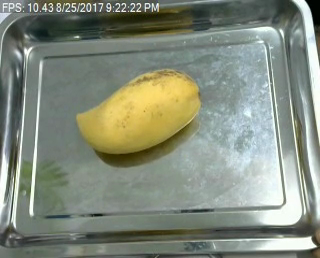Mango: (72, 69, 202, 157)
